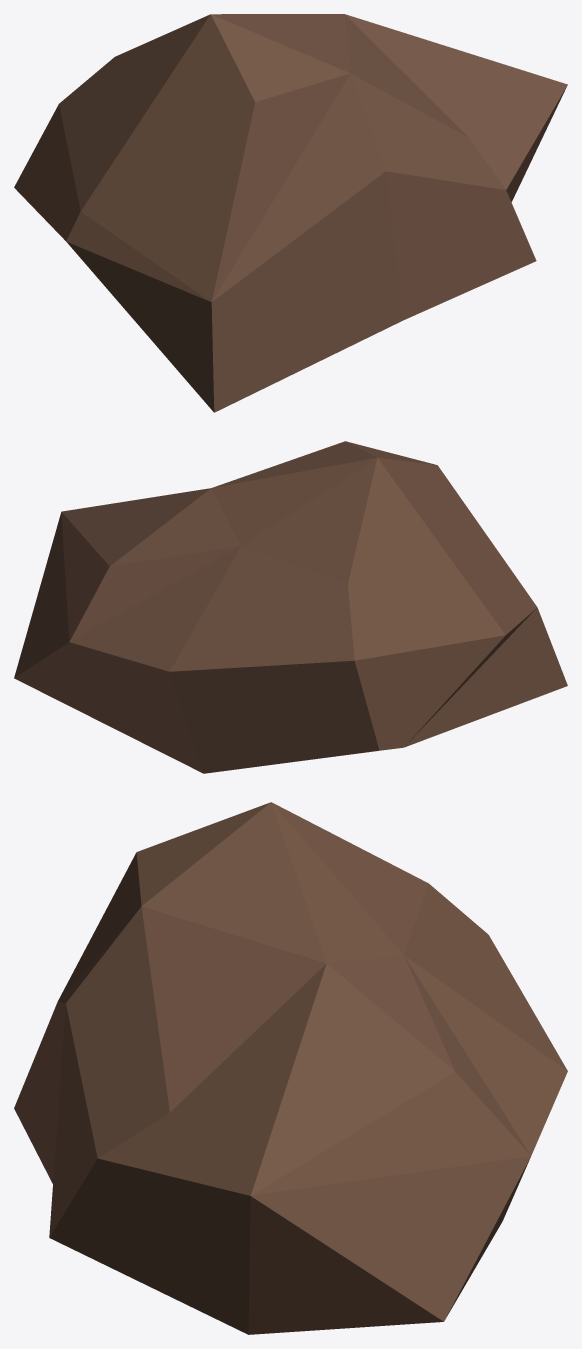
File: small_rock5.glb
3 renders of one model, top to bottom at view 1: azimuth 30°, elevation 25°; view 2: azimuth 150°, elevation 25°; view 3: azimuth 270°, elevation 25°, orthographic. The views are drawn at different scales.
Visible parts, largest first — view 1: small_rock5; view 2: small_rock5; view 3: small_rock5.
Part boxes in pixels (box(x1,y1,x2,y2)): small_rock5: box(14, 14, 567, 412); small_rock5: box(14, 441, 567, 773); small_rock5: box(14, 802, 567, 1334).
Size of the model in its own units: 1.24 by 0.8134 by 0.9967.
